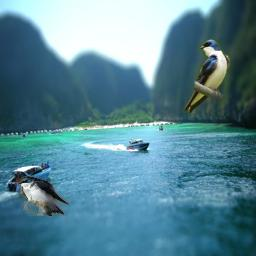Swallow: (183, 38, 230, 113), (17, 176, 69, 216)
